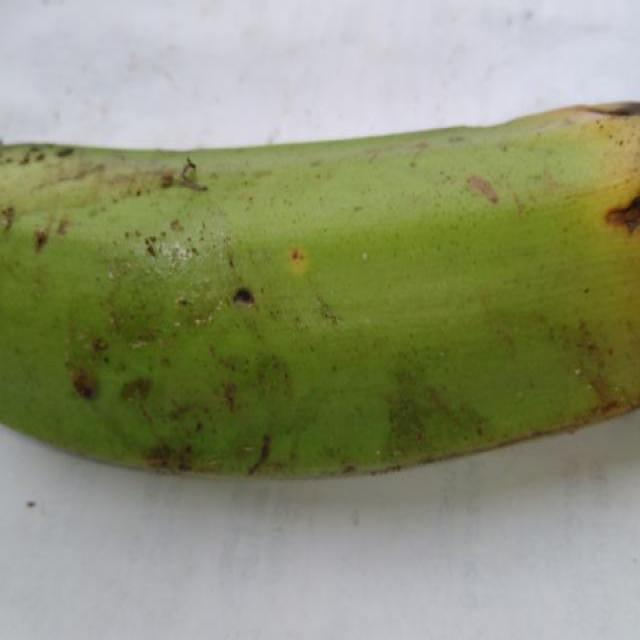Verde: (0, 125, 640, 477)
